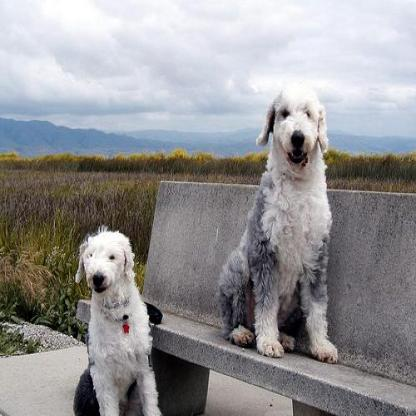Old_English_sheepdog: (216, 81, 340, 363), (71, 225, 164, 414)
